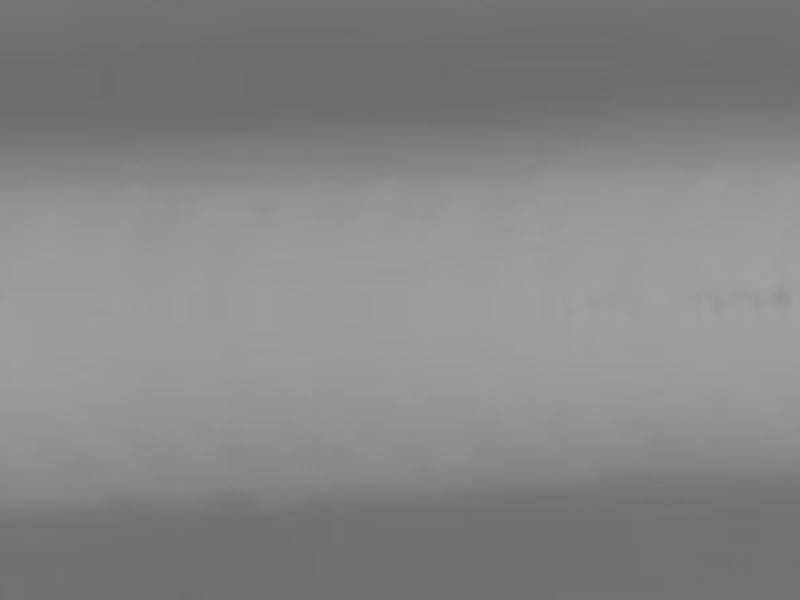defect: (701, 292, 732, 319), (770, 287, 792, 309)
